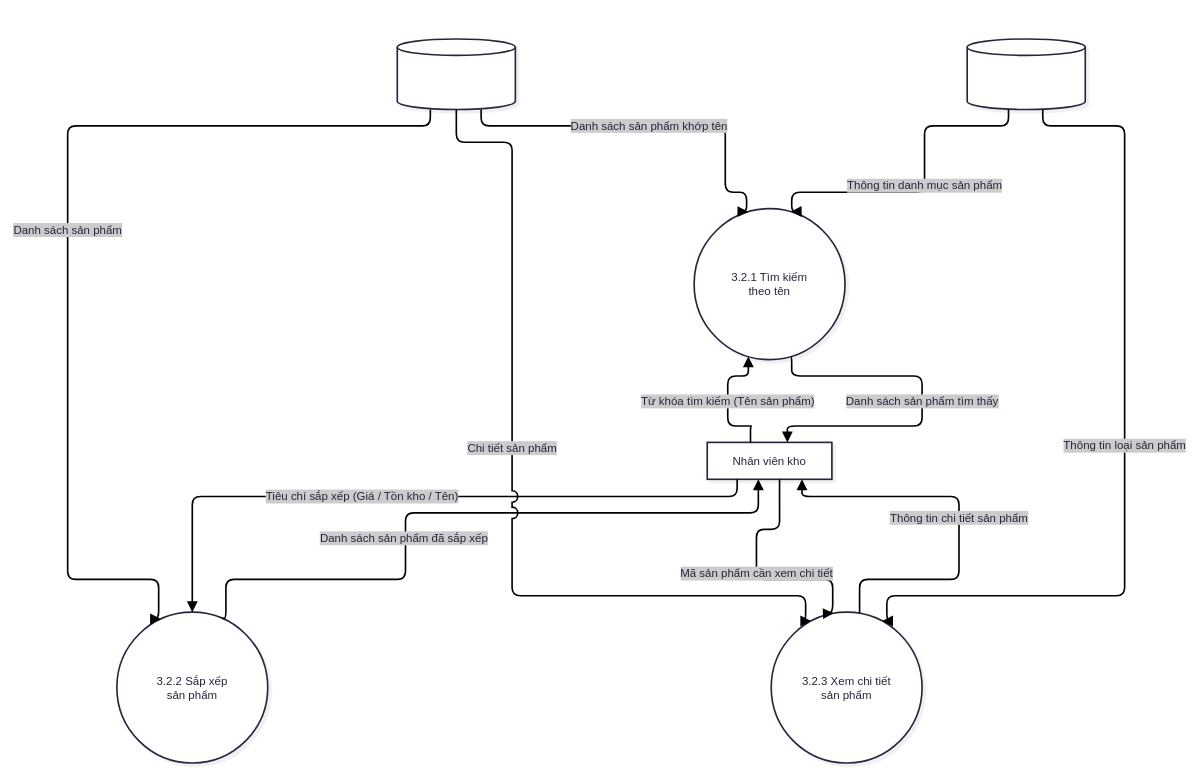
This 1200x781 diagram has some shape labels left out. Each missing label, with the centre of its shape:
"D1: Danh mục sản phẩm" belongs at (1027,75).
"D2: Sản phẩm" belongs at (457,75).
